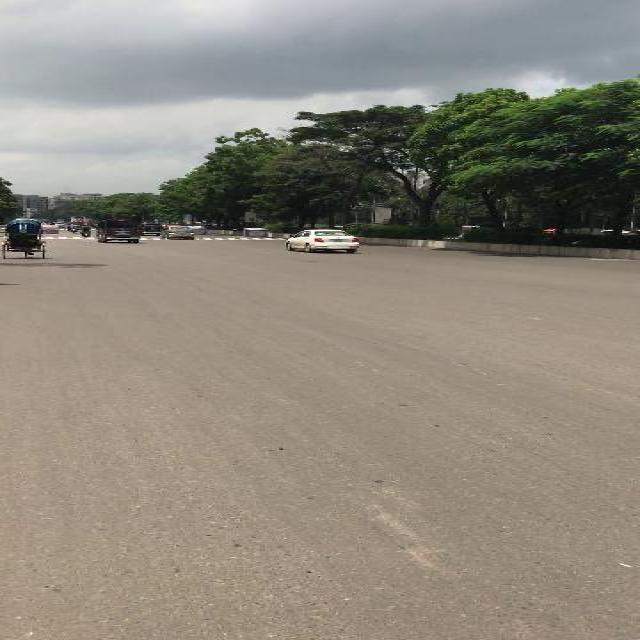car: (283, 227, 359, 253), (158, 226, 194, 240), (140, 222, 162, 235)
motorcycle: (0, 217, 44, 259), (76, 222, 90, 237), (67, 221, 73, 232)
truck: (92, 218, 140, 243)
